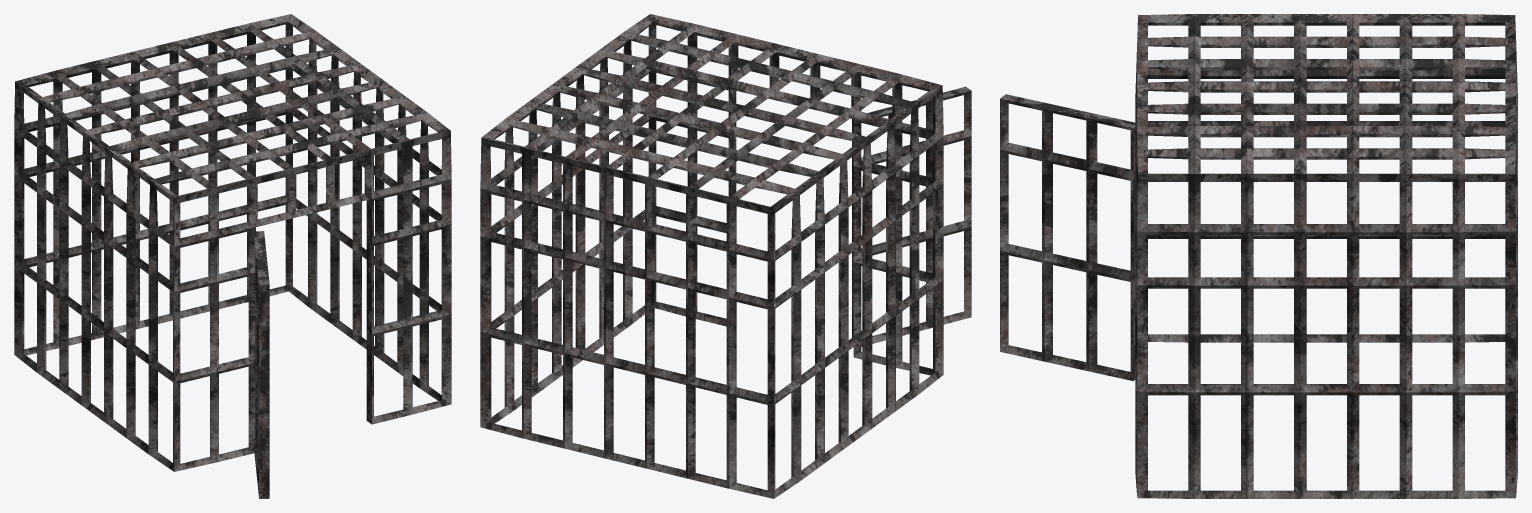
File: SM_Cage_Open.fbx
The picture shows the model from 3 angles, left to right: view 1: azimuth 30°, elevation 25°; view 2: azimuth 150°, elevation 25°; view 3: azimuth 270°, elevation 25°; orthographic projection. The views are drawn at different scales.
Parts seen in each view (by area): view 1: SM_Cage_Open; view 2: SM_Cage_Open; view 3: SM_Cage_Open.
Boxes of the visible parts, x1=… form: SM_Cage_Open: x1=14, y1=14, x2=451, y2=498; SM_Cage_Open: x1=480, y1=14, x2=971, y2=498; SM_Cage_Open: x1=1000, y1=14, x2=1517, y2=498.
Bounding box in the file's own units: 470 × 441 × 636.
